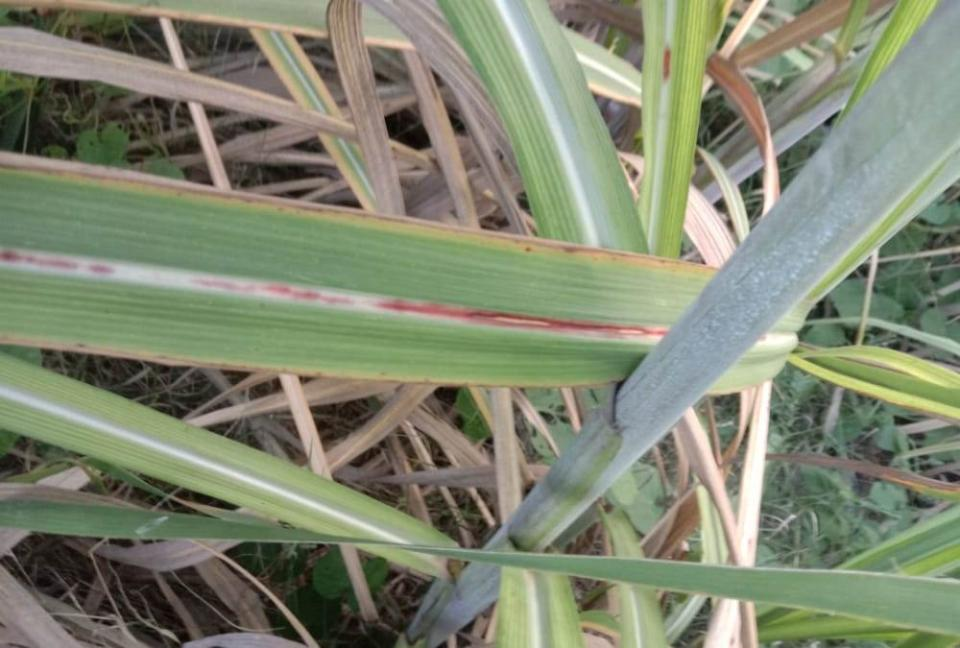RedRot: (186, 279, 668, 337), (0, 250, 118, 275)
